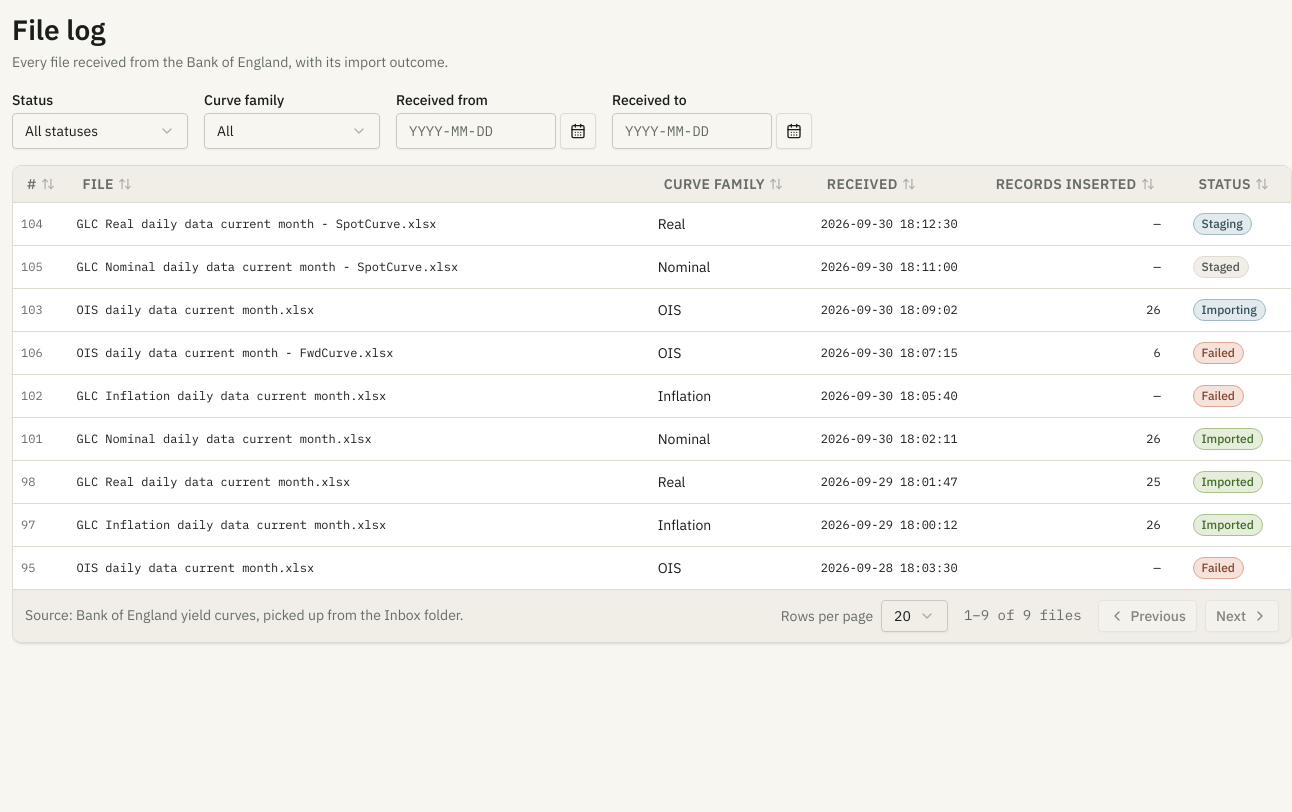
it: Epic quality-check-and-clean-up, Story 2: File log date pickers › still filters on a typed date committed with Enter, and an invalid typed date shows the date message without refiltering
# Typed "Received to" narrows to files received on or before 28 Sep 2026.
Type "2026-09-28" into the field labelled "Received to" at (692, 131), box [612,113,772,149]
Then press Enter
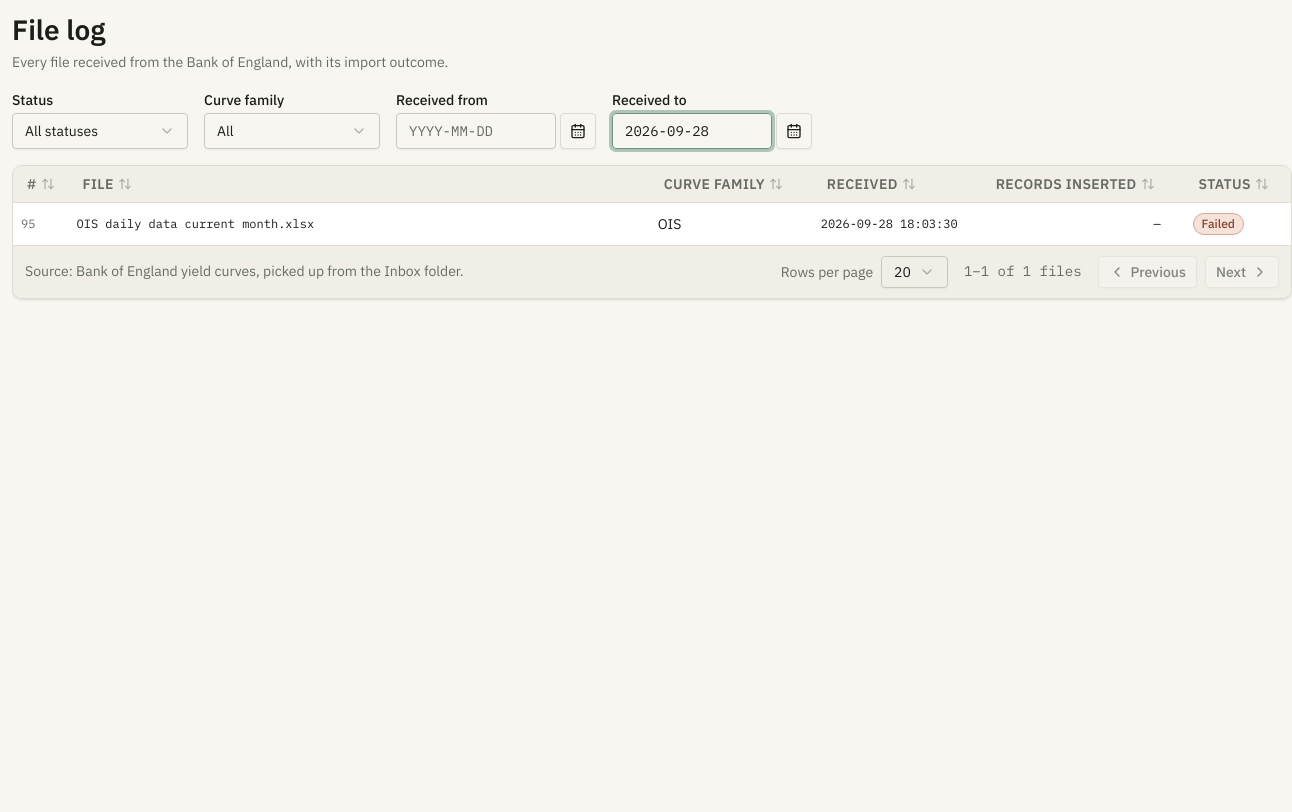
# An invalid typed "Received from" shows the message and leaves the list as is.
Type "28/09/2026" into the field labelled "Received from" at (476, 131), box [396,113,556,149]
Then press Enter
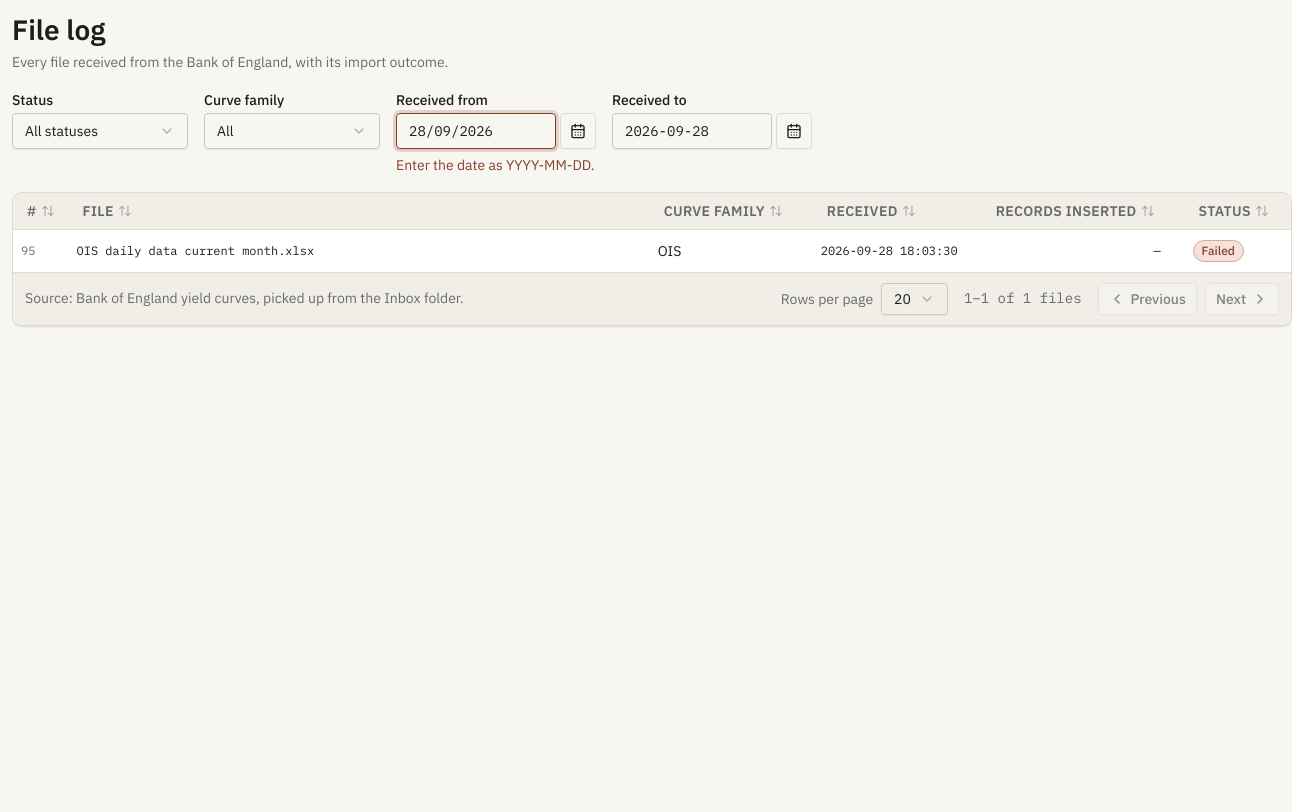
Now the text "Enter the date as YYYY-MM-DD." is shown, box [396,155,596,176]
